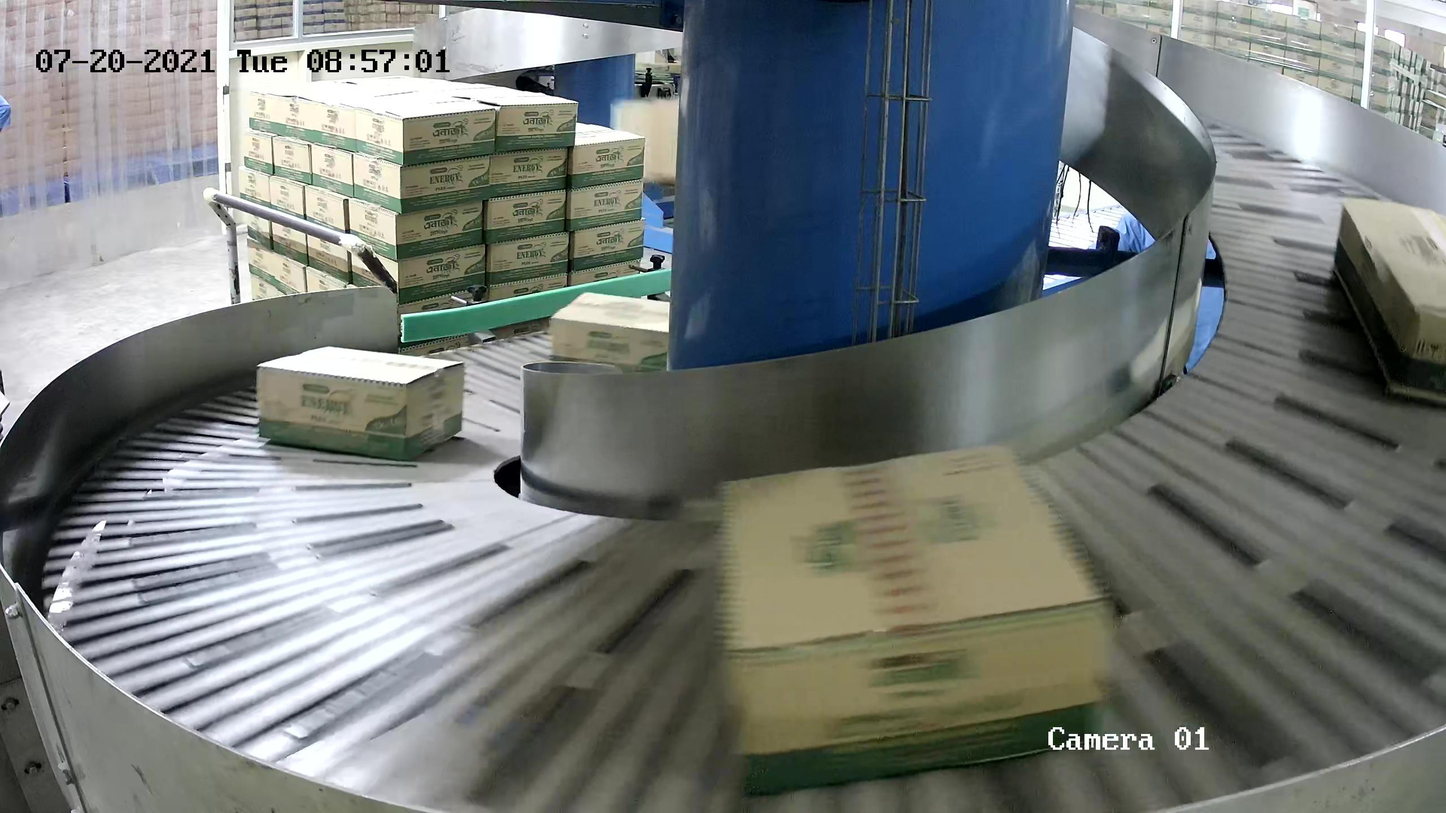Box: (713, 438, 1119, 798), (255, 346, 466, 462), (1332, 196, 1446, 403), (548, 290, 670, 374)
